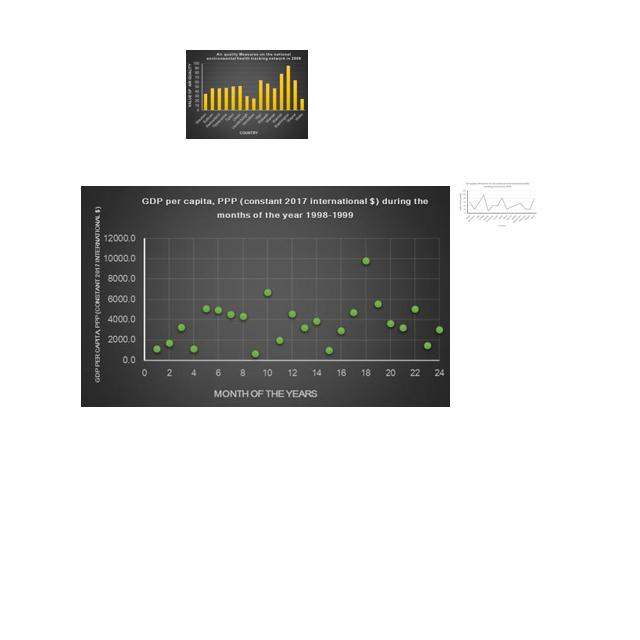Graph: (81, 186, 450, 407), (186, 50, 308, 139), (458, 181, 538, 228)
